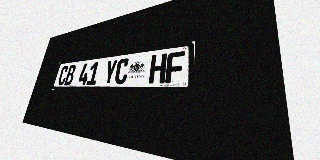1: (86, 62, 100, 85)
4: (77, 63, 91, 85)
B: (64, 65, 77, 85)
C: (114, 58, 130, 84), (57, 65, 69, 85)
F: (165, 51, 185, 83)
H: (148, 53, 167, 84)
Y: (103, 59, 118, 84)
